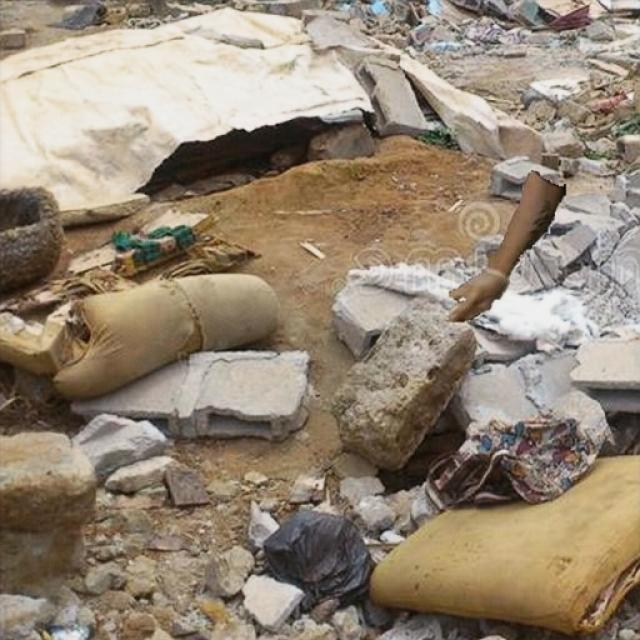Person in Rubble: (449, 170, 565, 322)
